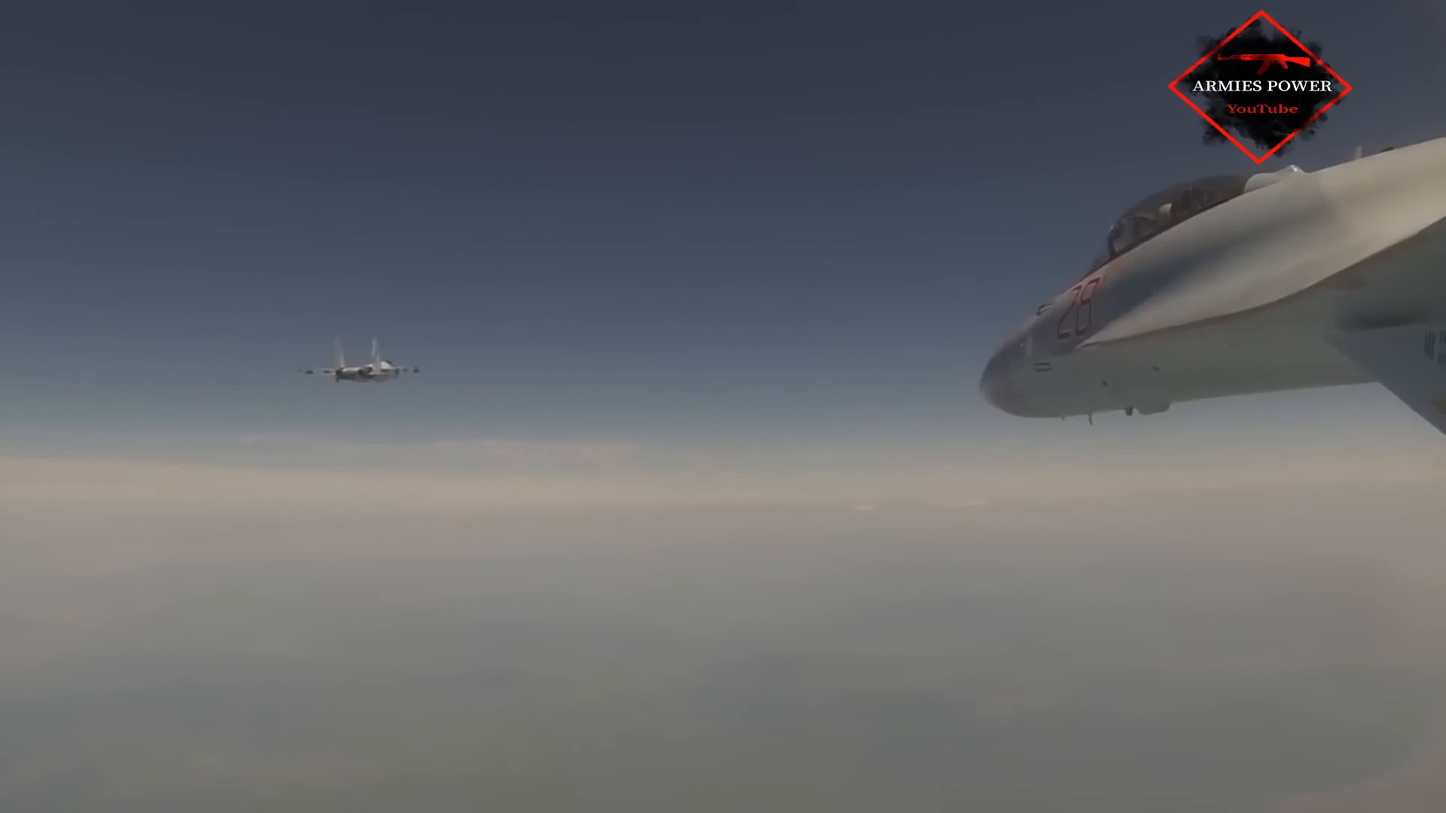Su35: (300, 331, 422, 387)
